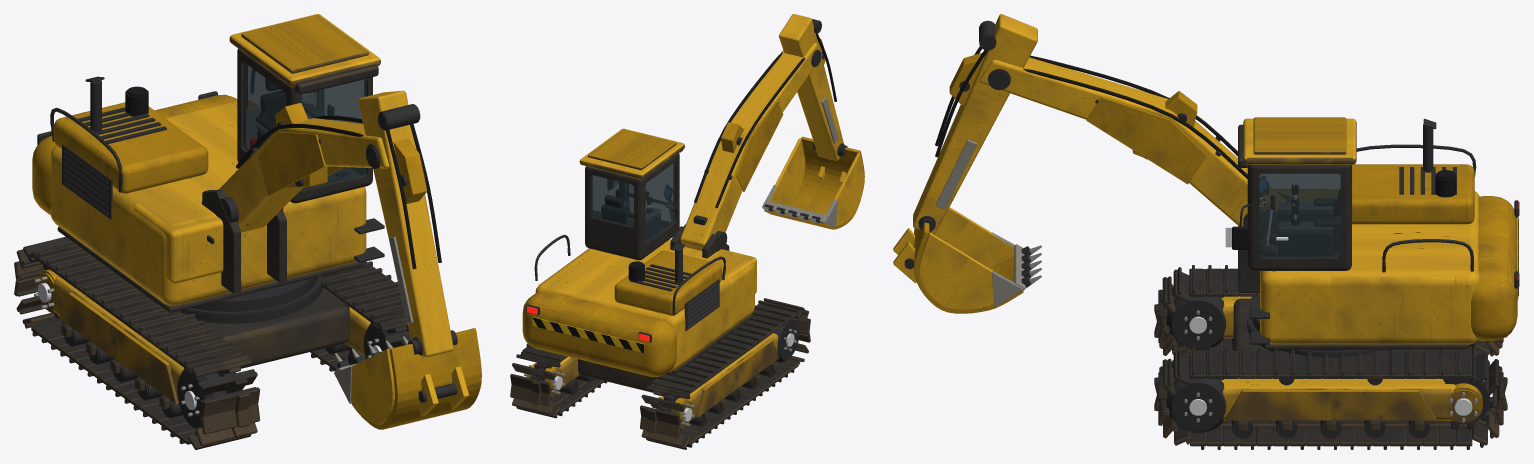
The model's file is excavator.glb.
3 views of the same model, side by side, from view 1: azimuth 30°, elevation 25°; view 2: azimuth 150°, elevation 25°; view 3: azimuth 270°, elevation 25° (orthographic). The views are drawn at different scales.
Visible parts, largest first — view 1: house_paint_yellow, undercarriage_track_steel, house_paint_yellow_dark, house_frame_dark, stick_paint_yellow, house_iron, undercarriage_frame_dark, boom_paint_yellow, bucket_paint_yellow_dark, house_glass, undercarriage_paint_yellow_dark, boom_paint_yellow_dark (+15 smaller); view 2: house_paint_yellow_dark, undercarriage_track_steel, house_paint_yellow, boom_paint_yellow, house_frame_dark, house_glass, stick_paint_yellow, bucket_paint_yellow_dark, bucket_paint_yellow, house_iron, boom_paint_yellow_dark, undercarriage_paint_yellow_dark (+10 smaller); view 3: house_paint_yellow, undercarriage_track_steel, house_paint_yellow_dark, boom_paint_yellow, house_frame_dark, bucket_paint_yellow, house_glass, stick_paint_yellow, undercarriage_paint_yellow_dark, boom_paint_yellow_dark, undercarriage_paint_yellow, house_iron (+17 smaller).
Boxes of the visible parts, x1=… form: house_paint_yellow: x1=50, y1=14, x2=380, y2=306; undercarriage_track_steel: x1=14, y1=236, x2=411, y2=449; house_paint_yellow_dark: x1=32, y1=14, x2=369, y2=215; house_frame_dark: x1=57, y1=48, x2=378, y2=312; stick_paint_yellow: x1=358, y1=90, x2=453, y2=357; house_iron: x1=37, y1=76, x2=384, y2=311; undercarriage_frame_dark: x1=61, y1=287, x2=349, y2=409; boom_paint_yellow: x1=218, y1=118, x2=389, y2=232; bucket_paint_yellow_dark: x1=352, y1=328, x2=481, y2=429; house_glass: x1=243, y1=62, x2=366, y2=190; undercarriage_paint_yellow_dark: x1=59, y1=292, x2=178, y2=404; boom_paint_yellow_dark: x1=257, y1=103, x2=344, y2=195; house_paint_yellow_dark: x1=522, y1=129, x2=721, y2=377; undercarriage_track_steel: x1=510, y1=298, x2=810, y2=449; house_paint_yellow: x1=535, y1=128, x2=756, y2=371; boom_paint_yellow: x1=680, y1=42, x2=822, y2=250; house_frame_dark: x1=585, y1=150, x2=753, y2=373; house_glass: x1=591, y1=162, x2=675, y2=243; stick_paint_yellow: x1=778, y1=14, x2=843, y2=160; bucket_paint_yellow_dark: x1=764, y1=136, x2=864, y2=229; bucket_paint_yellow: x1=769, y1=138, x2=864, y2=225; house_iron: x1=526, y1=215, x2=727, y2=342; boom_paint_yellow_dark: x1=721, y1=100, x2=783, y2=191; undercarriage_paint_yellow_dark: x1=696, y1=339, x2=779, y2=417; house_paint_yellow: x1=1243, y1=118, x2=1479, y2=344; undercarriage_track_steel: x1=1154, y1=265, x2=1507, y2=449; house_paint_yellow_dark: x1=1253, y1=117, x2=1517, y2=340; boom_paint_yellow: x1=979, y1=57, x2=1247, y2=226; house_frame_dark: x1=1238, y1=124, x2=1467, y2=349; bucket_paint_yellow: x1=893, y1=207, x2=1014, y2=309; house_glass: x1=1259, y1=173, x2=1340, y2=257; stick_paint_yellow: x1=913, y1=14, x2=1037, y2=234; undercarriage_paint_yellow_dark: x1=1225, y1=390, x2=1436, y2=420; boom_paint_yellow_dark: x1=1086, y1=91, x2=1206, y2=184; undercarriage_paint_yellow: x1=1221, y1=296, x2=1455, y2=420; house_iron: x1=1239, y1=118, x2=1518, y2=350.
Bounding box in the file's own units: 2.88 × 4.59 × 7.08.
32 materials, 7 textured.
